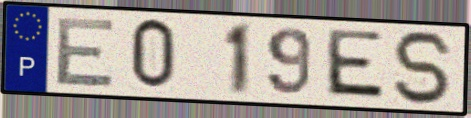0: (127, 15, 181, 95)
1: (222, 19, 259, 99)
9: (263, 25, 314, 98)
E: (321, 26, 388, 103), (52, 16, 119, 88)
S: (389, 28, 457, 108)
